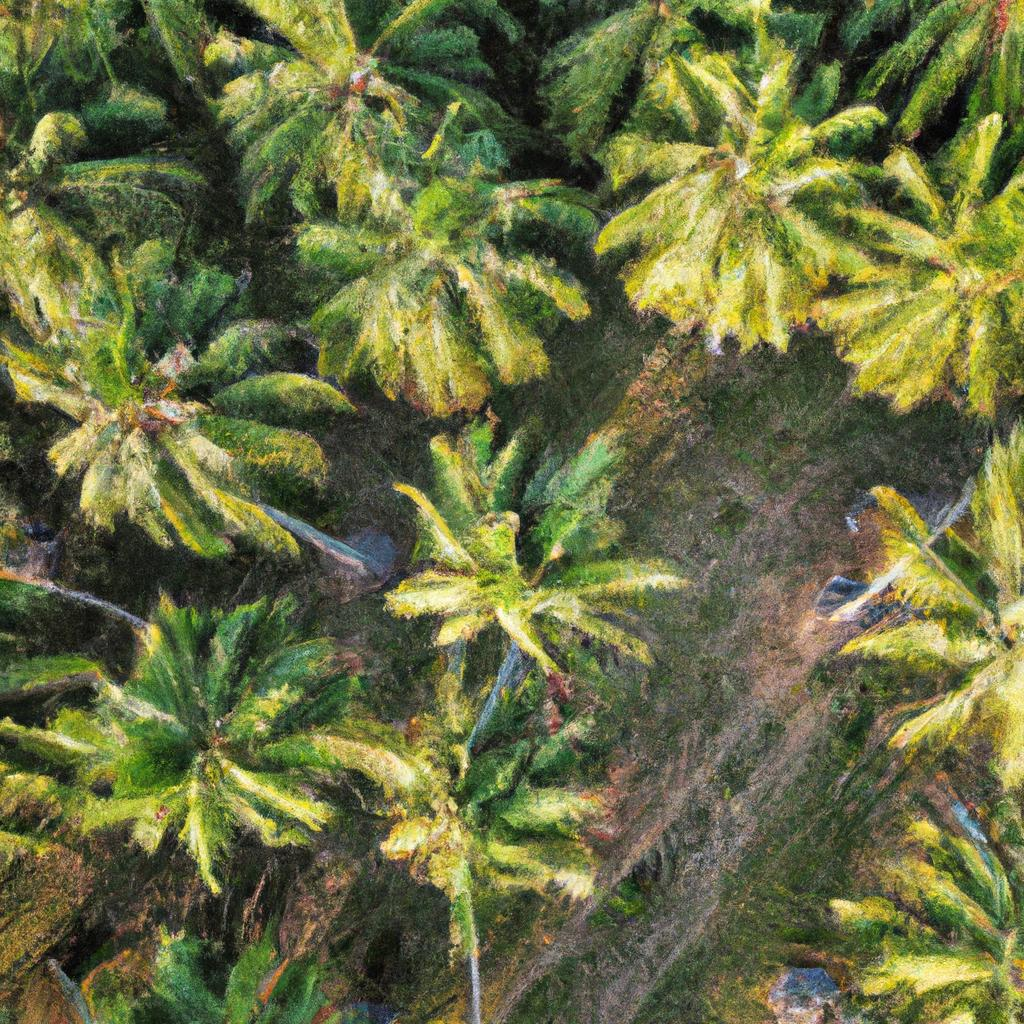coconut_tree: (10, 286, 351, 566), (61, 597, 356, 872), (613, 42, 866, 356), (420, 423, 678, 662)
